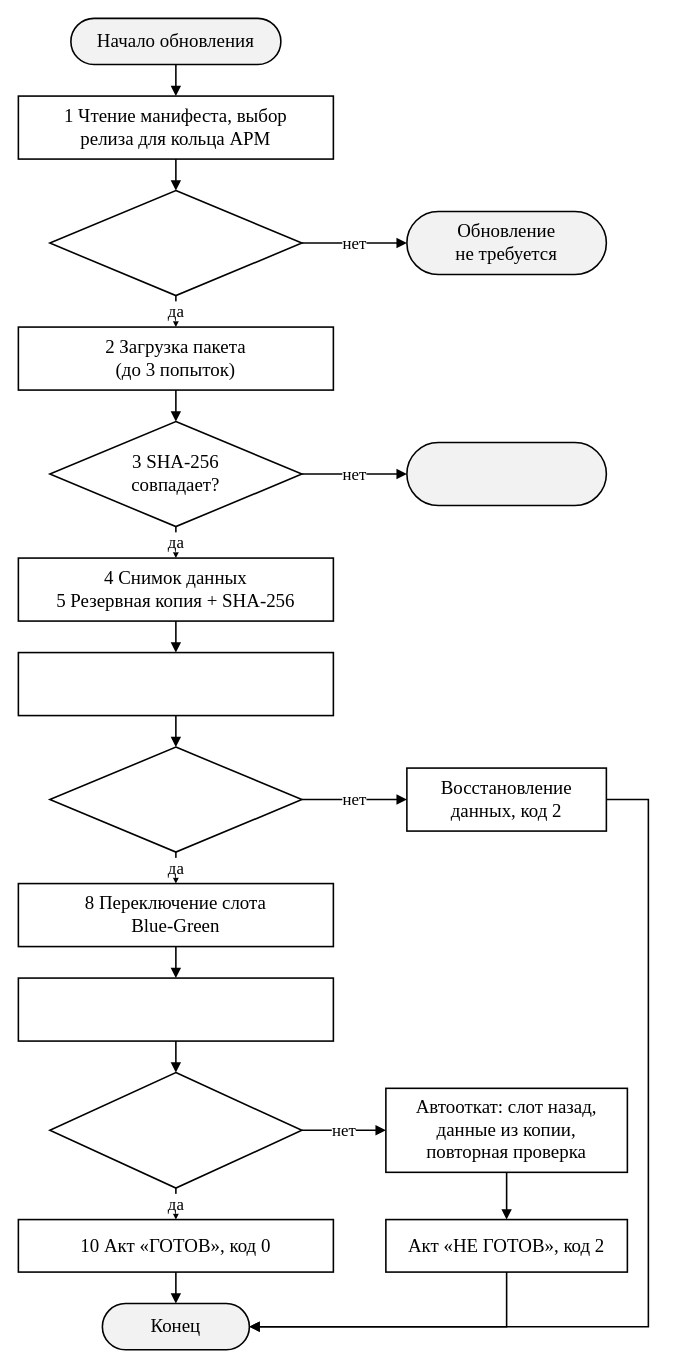
This 676x1369 diagram has some shape labels left out. The shapes that lost their labels are listed below. From the top down, each one's box as (x1, y1, x2, y2) in pixels, then its label:
(49, 189, 302, 296): Есть версия выше текущей?
(406, 441, 607, 506): Прерывание, изменений нет, код 3
(17, 651, 334, 716): 6 Установка в неактивный слот 7 Миграции БД
(49, 746, 302, 852): Установка успешна?
(17, 977, 334, 1041): 9 Health Check: целостность, БД, API, считыватель
(49, 1071, 302, 1188): Критичные проверки пройдены?
